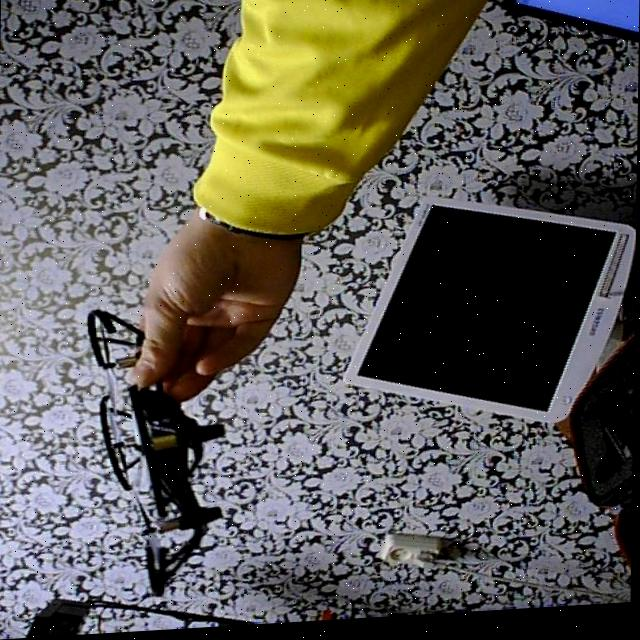drone: (59, 281, 243, 618)
